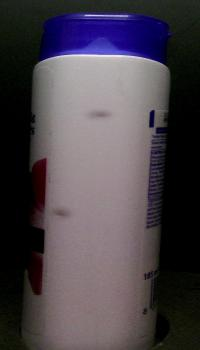dent_marginal: (80, 106, 125, 128), (43, 207, 88, 225)
